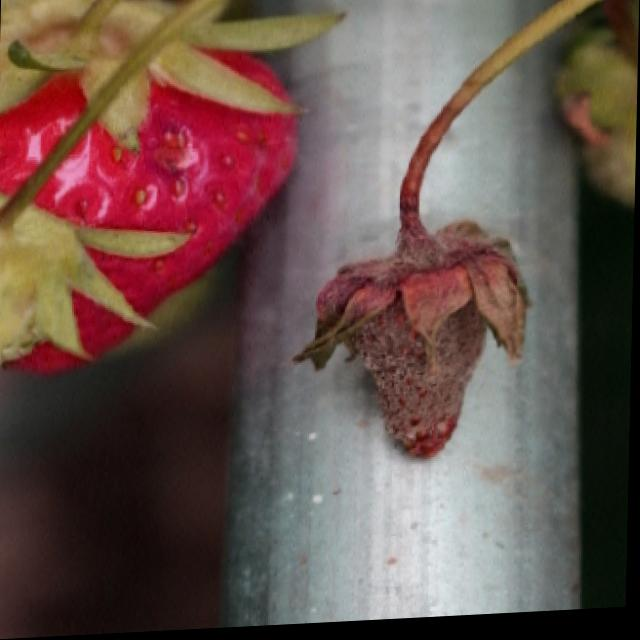Gray Mold: (291, 197, 533, 467)
